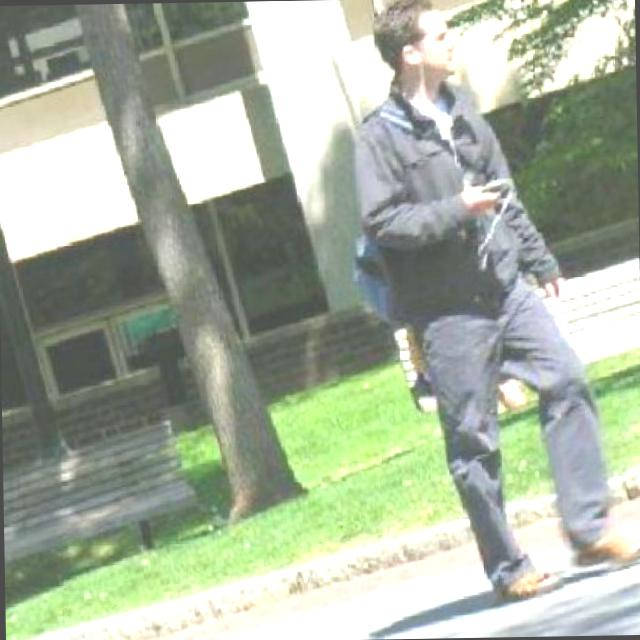Person: (345, 0, 640, 603)
